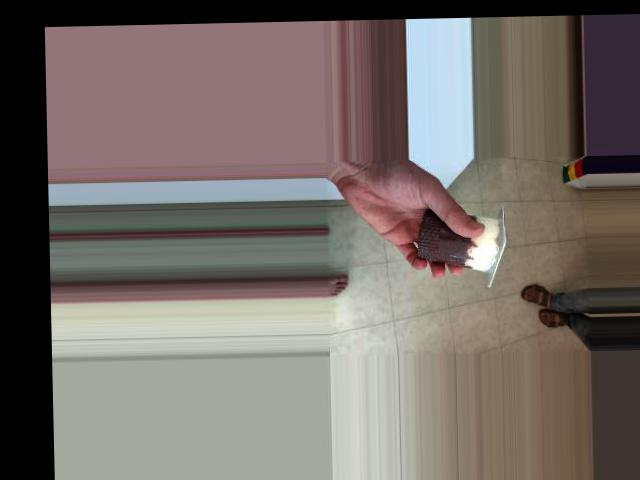milky: (400, 206, 515, 279)
